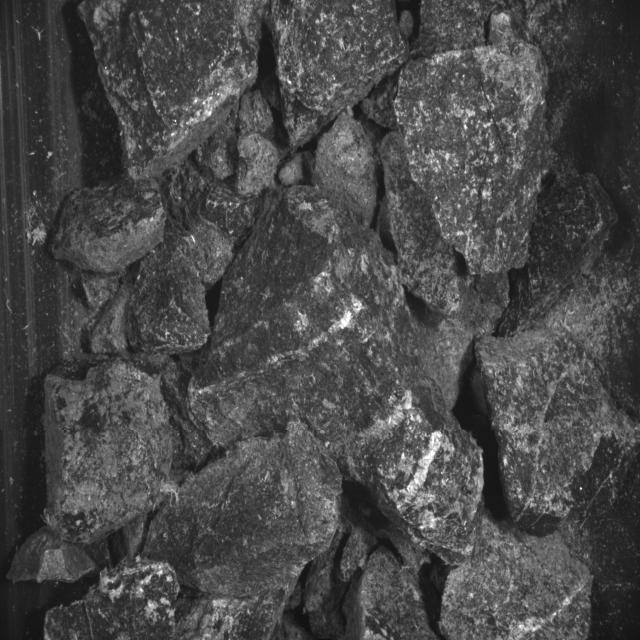Stones: (190, 188, 484, 561), (395, 44, 549, 275), (145, 423, 342, 597), (80, 1, 266, 180), (477, 330, 640, 533), (45, 360, 174, 544), (271, 1, 410, 148), (440, 517, 594, 640), (127, 222, 211, 355), (45, 559, 180, 640), (54, 181, 167, 275), (345, 547, 437, 640), (314, 113, 379, 229), (176, 590, 286, 640), (9, 526, 97, 583), (237, 134, 280, 197)
